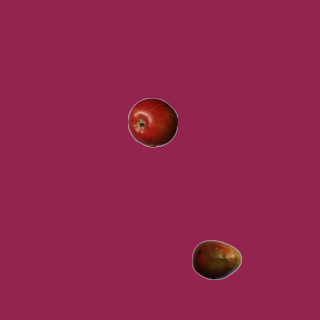Apple Braeburn: (127, 97, 177, 147)
Mango Red: (191, 234, 241, 284)
